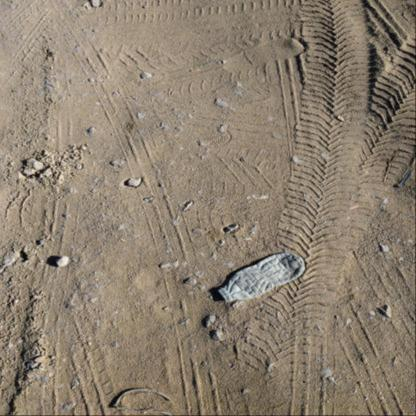Bottle cap: (218, 252, 304, 302)
Cigarette: (349, 206, 360, 210)
Other plastic: (115, 388, 175, 414), (399, 171, 411, 188)
